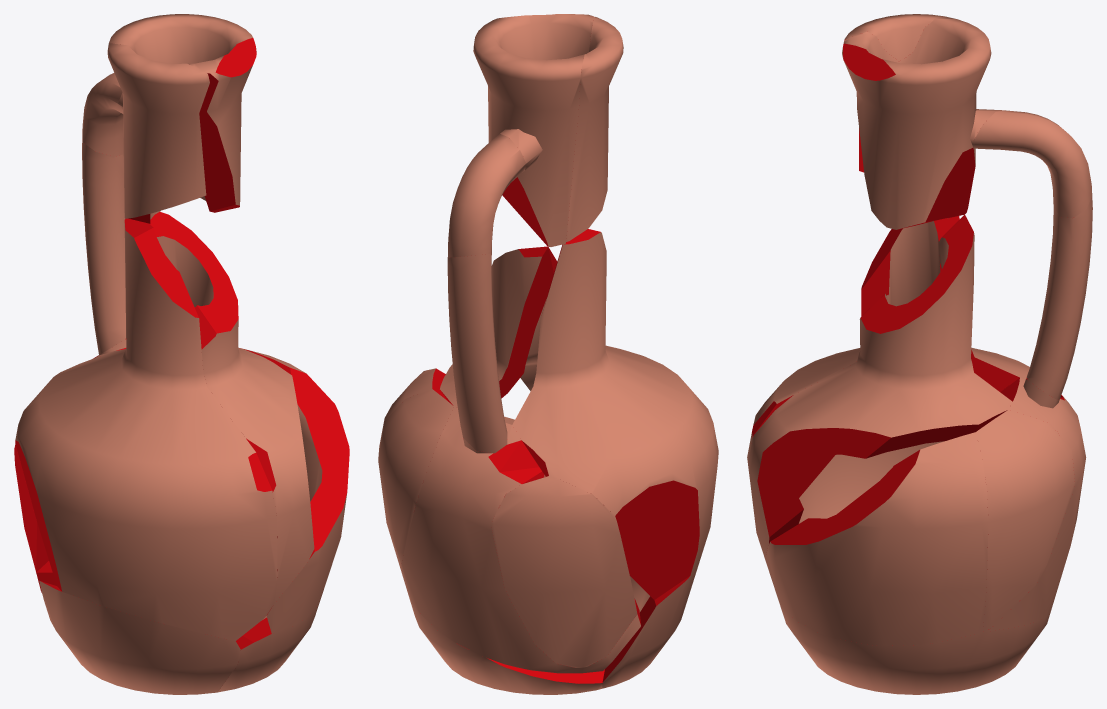
Rendered from ClayPot_08_destroyed 1.fbx.
3 views of the same model, side by side, from view 1: azimuth 30°, elevation 25°; view 2: azimuth 150°, elevation 25°; view 3: azimuth 270°, elevation 25° (orthographic).
Visible parts, largest first — view 1: ClayPot_08_cell.006, ClayPot_08_cell.027, ClayPot_08_cell.026, ClayPot_08_cell.005, ClayPot_08_cell.024, ClayPot_08_cell.017, ClayPot_08_cell.022, ClayPot_08_cell.018, ClayPot_08_cell.032, ClayPot_08_cell.021; view 2: ClayPot_08_cell.006, ClayPot_08_cell.034, ClayPot_08_cell.021, ClayPot_08_cell.024, ClayPot_08_cell.022, ClayPot_08_cell.027, ClayPot_08_cell.026, ClayPot_08_cell.013, ClayPot_08_cell.032, ClayPot_08_cell.018, ClayPot_08_cell.005, ClayPot_08_cell.017; view 3: ClayPot_08_cell.017, ClayPot_08_cell.027, ClayPot_08_cell.024, ClayPot_08_cell.013, ClayPot_08_cell.006, ClayPot_08_cell.018, ClayPot_08_cell.022, ClayPot_08_cell.034, ClayPot_08_cell.032, ClayPot_08_cell.026.
Part boxes in pixels (bbox=[...]): ClayPot_08_cell.006: bbox=[15, 218, 277, 640]; ClayPot_08_cell.027: bbox=[150, 212, 314, 602]; ClayPot_08_cell.026: bbox=[107, 43, 209, 218]; ClayPot_08_cell.005: bbox=[39, 581, 240, 694]; ClayPot_08_cell.024: bbox=[109, 14, 256, 223]; ClayPot_08_cell.017: bbox=[242, 348, 349, 633]; ClayPot_08_cell.022: bbox=[82, 135, 126, 354]; ClayPot_08_cell.018: bbox=[218, 599, 320, 692]; ClayPot_08_cell.032: bbox=[82, 73, 123, 156]; ClayPot_08_cell.021: bbox=[14, 444, 48, 572]; ClayPot_08_cell.006: bbox=[512, 229, 718, 599]; ClayPot_08_cell.034: bbox=[401, 406, 640, 673]; ClayPot_08_cell.021: bbox=[491, 476, 637, 667]; ClayPot_08_cell.024: bbox=[473, 14, 594, 246]; ClayPot_08_cell.022: bbox=[447, 253, 507, 453]; ClayPot_08_cell.027: bbox=[440, 246, 557, 407]; ClayPot_08_cell.026: bbox=[566, 17, 623, 241]; ClayPot_08_cell.013: bbox=[378, 389, 453, 575]; ClayPot_08_cell.032: bbox=[447, 134, 526, 257]; ClayPot_08_cell.018: bbox=[405, 584, 604, 694]; ClayPot_08_cell.005: bbox=[602, 555, 701, 688]; ClayPot_08_cell.017: bbox=[379, 368, 545, 476]; ClayPot_08_cell.017: bbox=[765, 432, 988, 645]; ClayPot_08_cell.027: bbox=[748, 214, 1012, 559]; ClayPot_08_cell.024: bbox=[842, 19, 1002, 229]; ClayPot_08_cell.013: bbox=[976, 410, 1074, 631]; ClayPot_08_cell.006: bbox=[747, 216, 1029, 556]; ClayPot_08_cell.018: bbox=[778, 598, 1050, 694]; ClayPot_08_cell.022: bbox=[1026, 196, 1092, 399]; ClayPot_08_cell.034: bbox=[985, 377, 1086, 631]; ClayPot_08_cell.032: bbox=[973, 110, 1092, 217]; ClayPot_08_cell.026: bbox=[844, 14, 955, 172].
Bounding box in the file's own units: 30.98 × 61.43 × 31.62.
